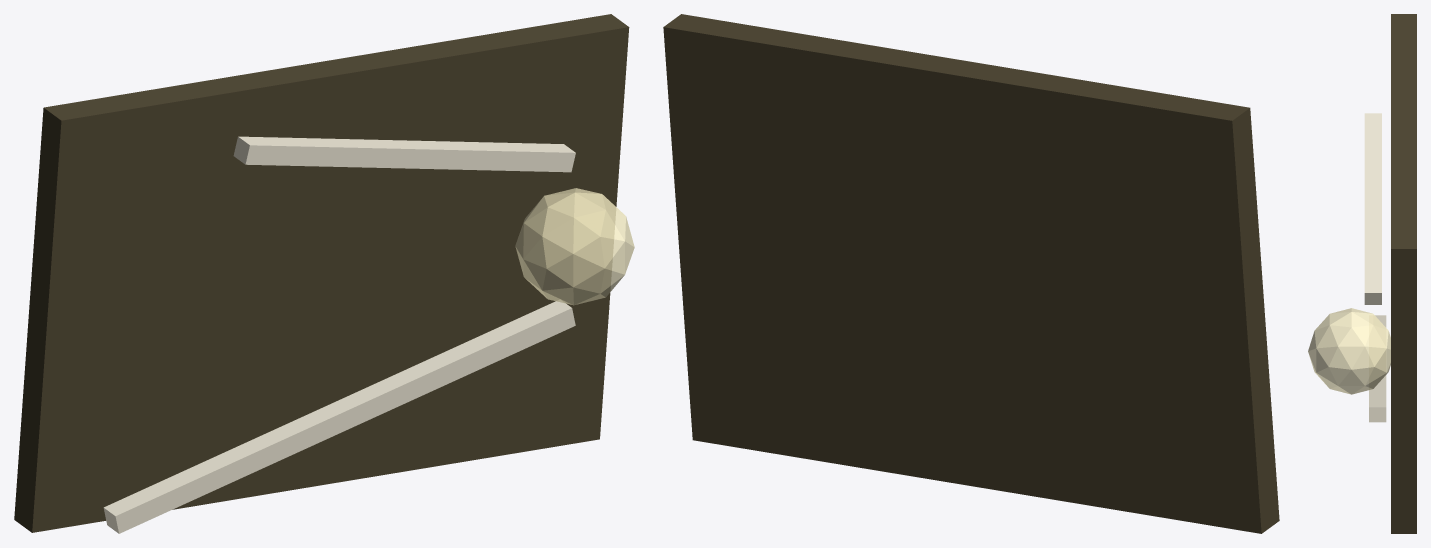
The model's file is 02_world_prop_polish.glb.
The picture shows the model from 3 angles, left to right: view 1: azimuth 30°, elevation 25°; view 2: azimuth 150°, elevation 25°; view 3: azimuth 270°, elevation 25°; orthographic projection. The views are drawn at different scales.
Visible parts, largest first — view 1: object_overlay_plate, edge_wear_a, glow_socket, edge_wear_b; view 2: object_overlay_plate; view 3: object_overlay_plate, glow_socket, edge_wear_b, edge_wear_a.
Part boxes in pixels (<box>): object_overlay_plate: <box>14,14,629,532</box>; edge_wear_a: <box>103,300,575,533</box>; glow_socket: <box>515,188,634,305</box>; edge_wear_b: <box>233,136,575,172</box>; object_overlay_plate: <box>663,14,1279,533</box>; object_overlay_plate: <box>1391,14,1416,533</box>; glow_socket: <box>1308,308,1390,394</box>; edge_wear_b: <box>1364,113,1381,304</box>; edge_wear_a: <box>1369,315,1386,422</box>.
Size of the model in its own units: 1.15 by 0.8309 by 0.25.
